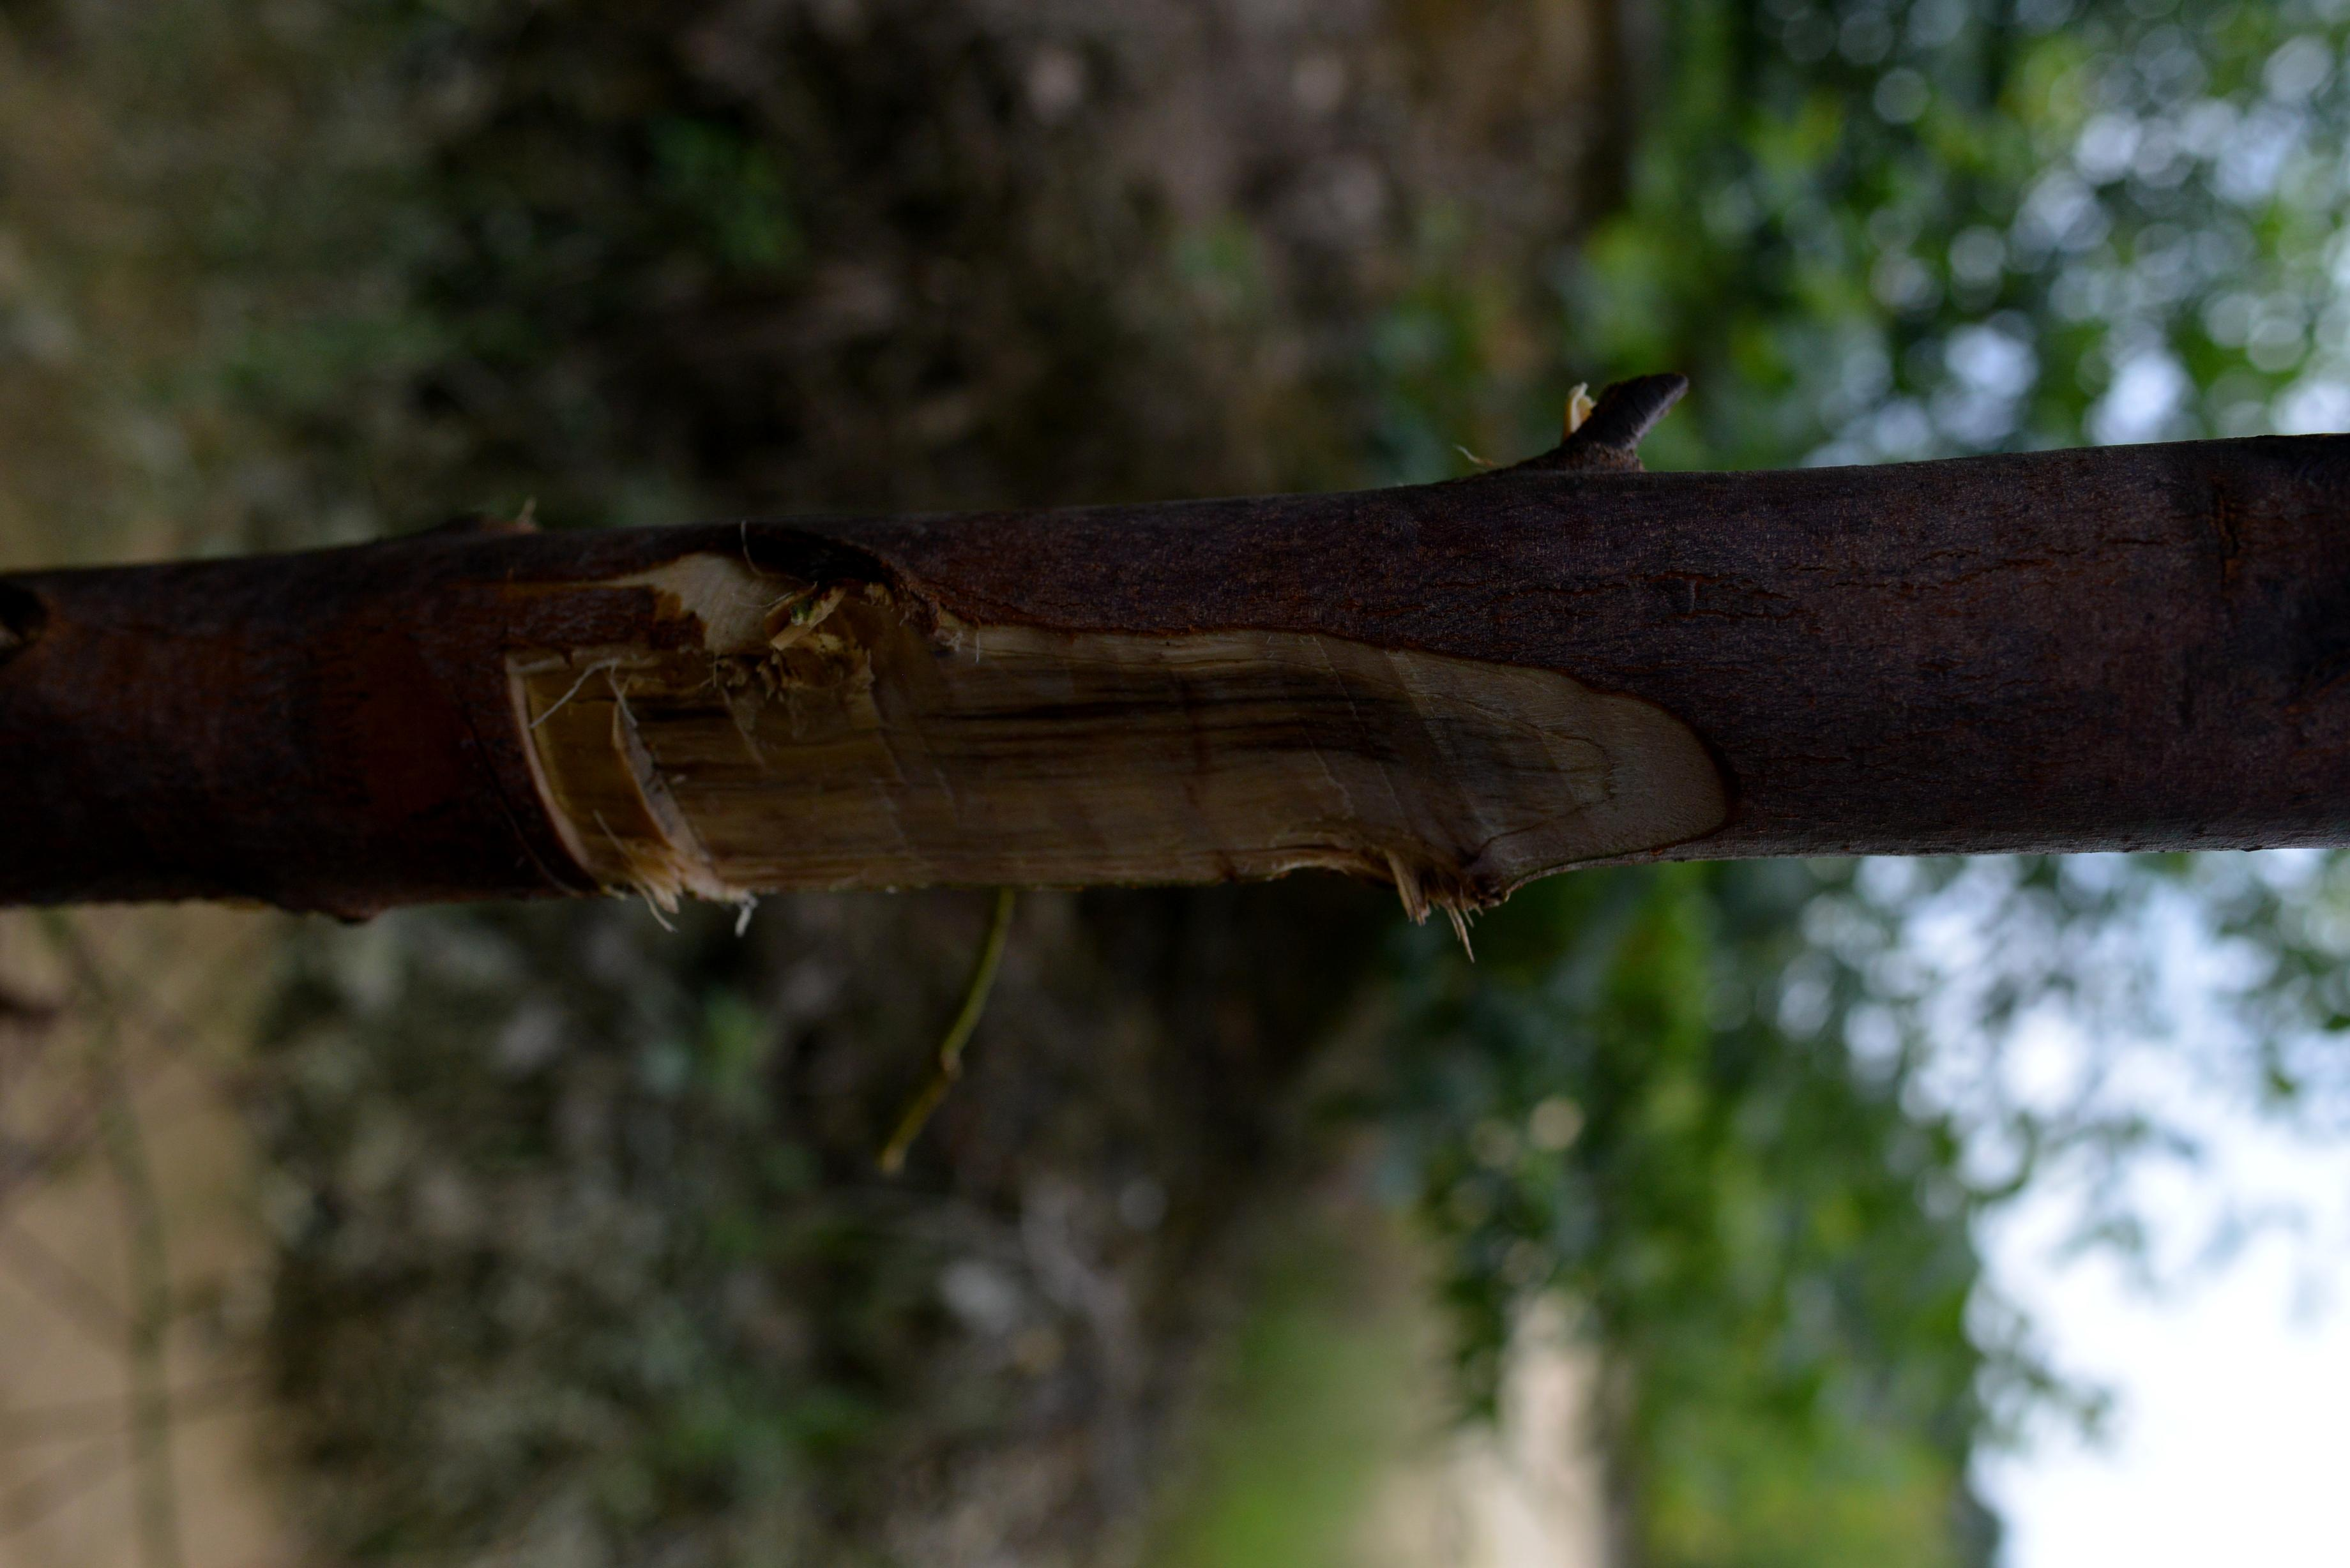Ralstonia: (507, 565, 1755, 887)
